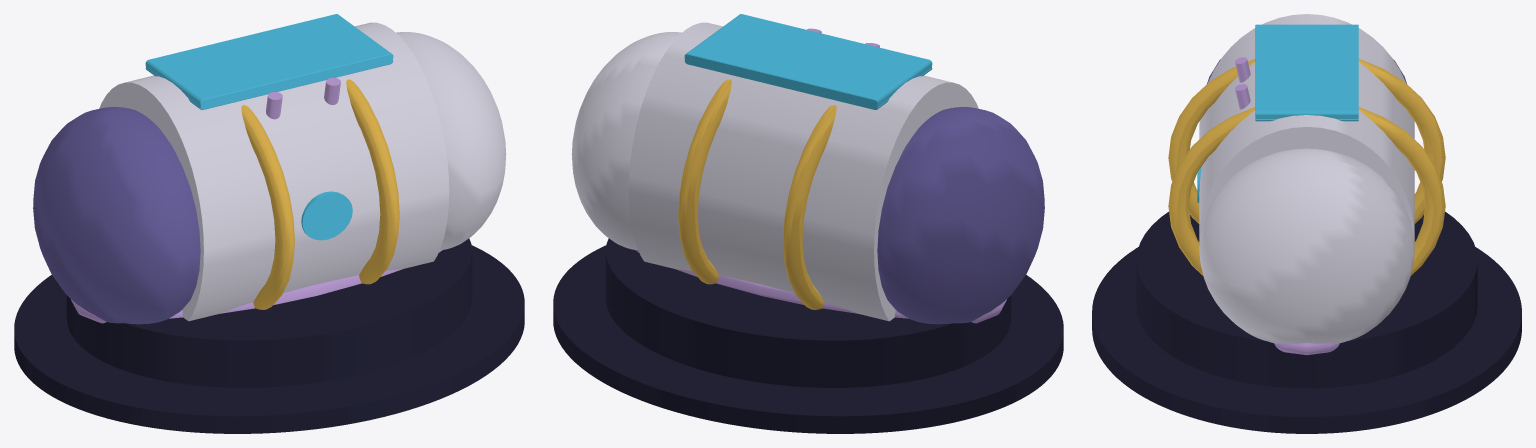
The model's file is 0359_航空航天图鉴_风云四号A气象卫星.glb.
3 renders of one model, left to right at view 1: azimuth 30°, elevation 25°; view 2: azimuth 150°, elevation 25°; view 3: azimuth 270°, elevation 25°, orthographic. The views are drawn at different scales.
Parts seen in each view (by area): view 1: card_0359; view 2: card_0359; view 3: card_0359.
Part boxes in pixels (x1,y1,x2,y2): card_0359: (14, 14, 524, 433); card_0359: (553, 14, 1063, 433); card_0359: (1092, 14, 1521, 433).
Bounding box in the file's own units: 1.73 × 1 × 1.49.
